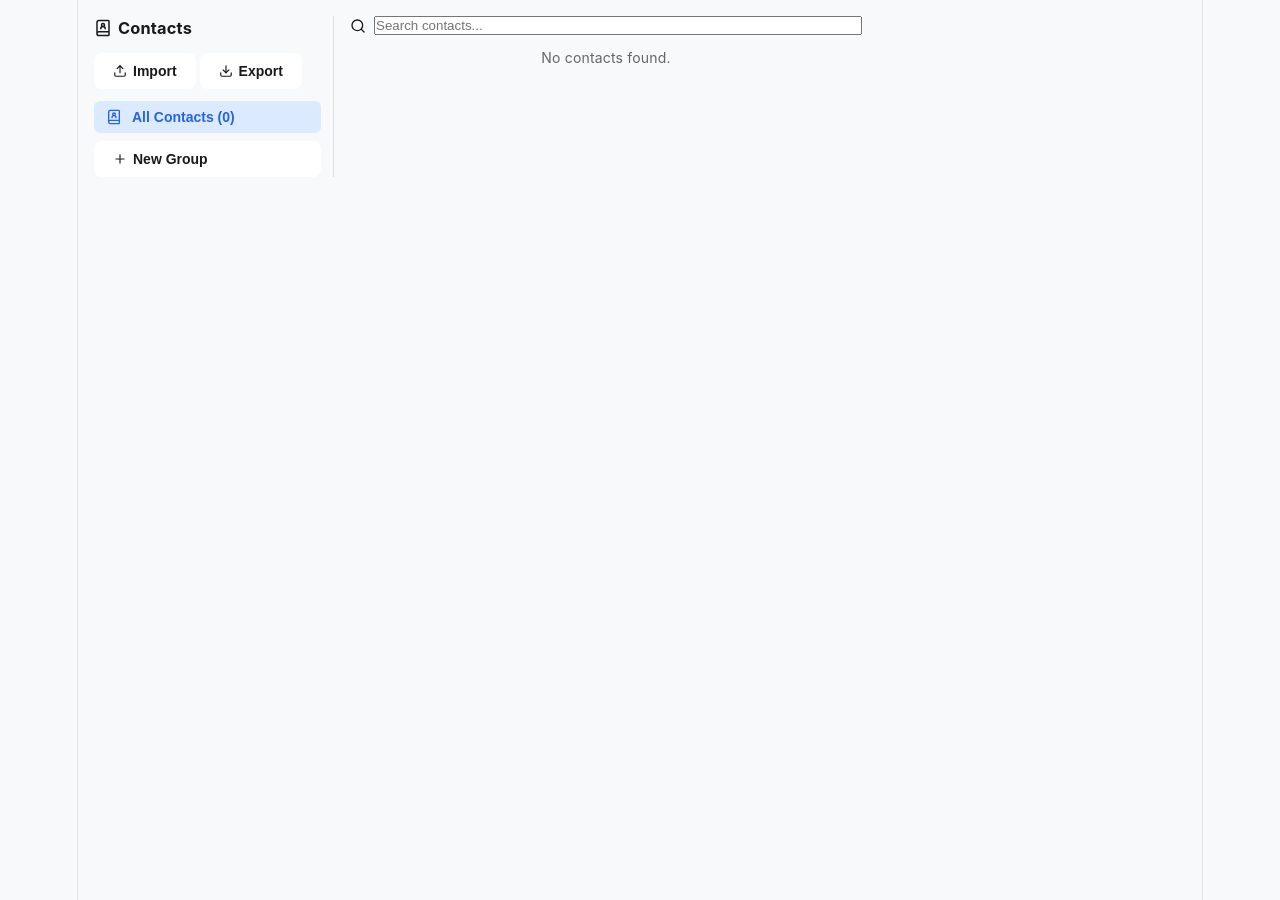
ContactsApp › shows New Group button and create form
The width and height of the screenshot is (1280, 900).
Click the button "New Group".
click(208, 159)  # box [94,141,321,177]
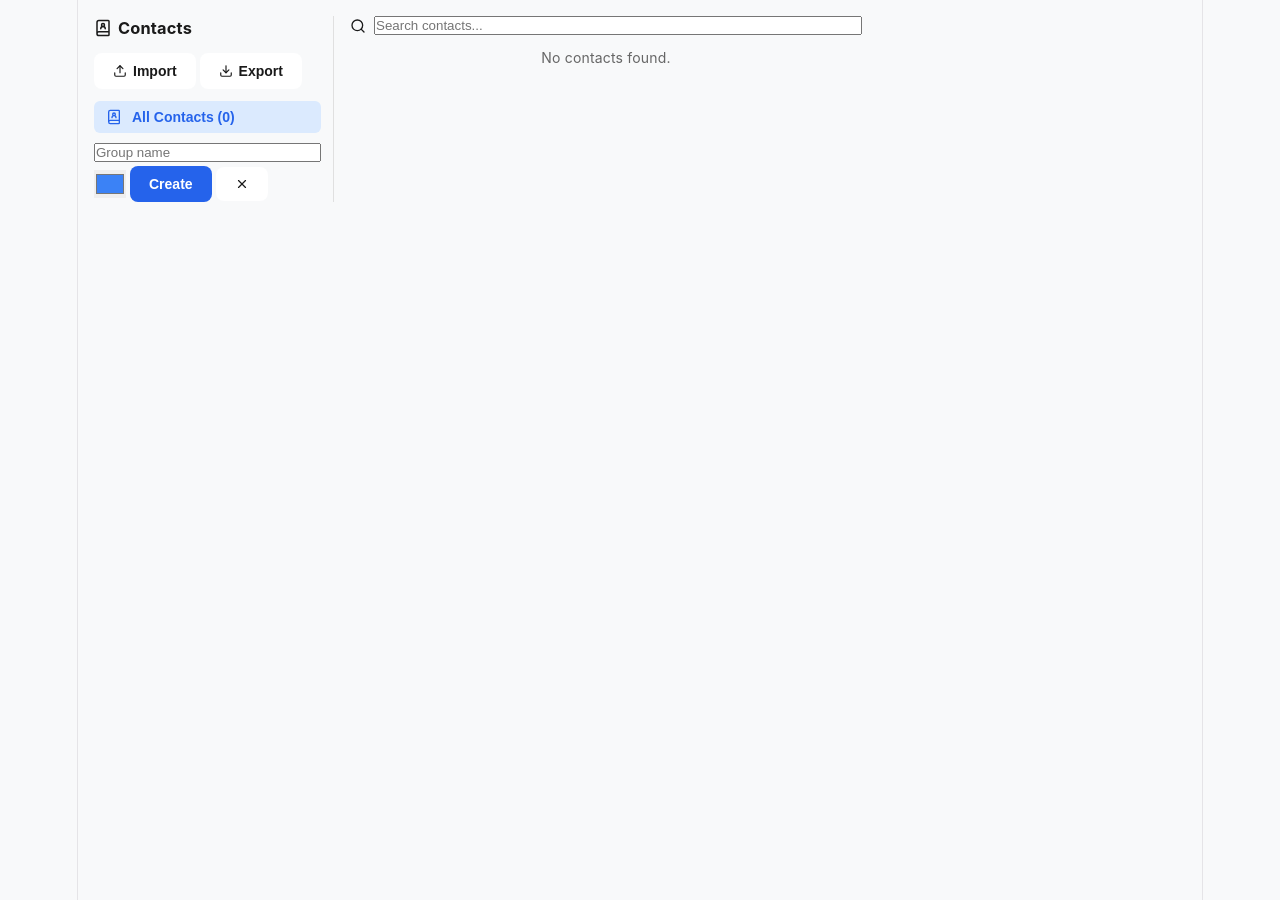
Expected: the field with placeholder "Group name" is shown, [94,143,321,162]
Expected: the button "Create" is shown, [130,166,212,202]
